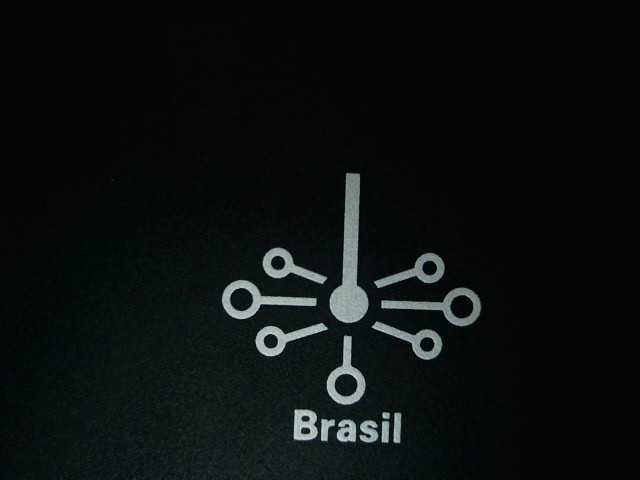BG_Brasil: (170, 150, 493, 460)
